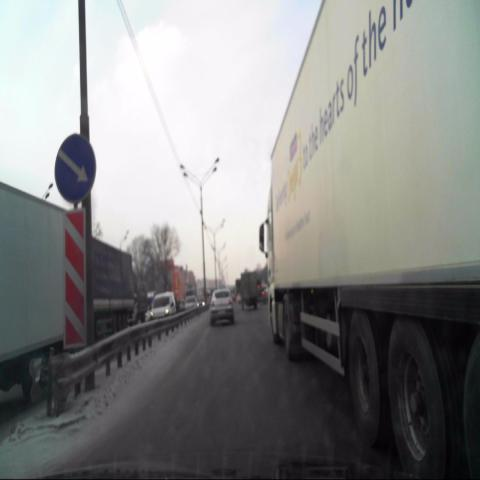4_2_1: (53, 132, 97, 205)
